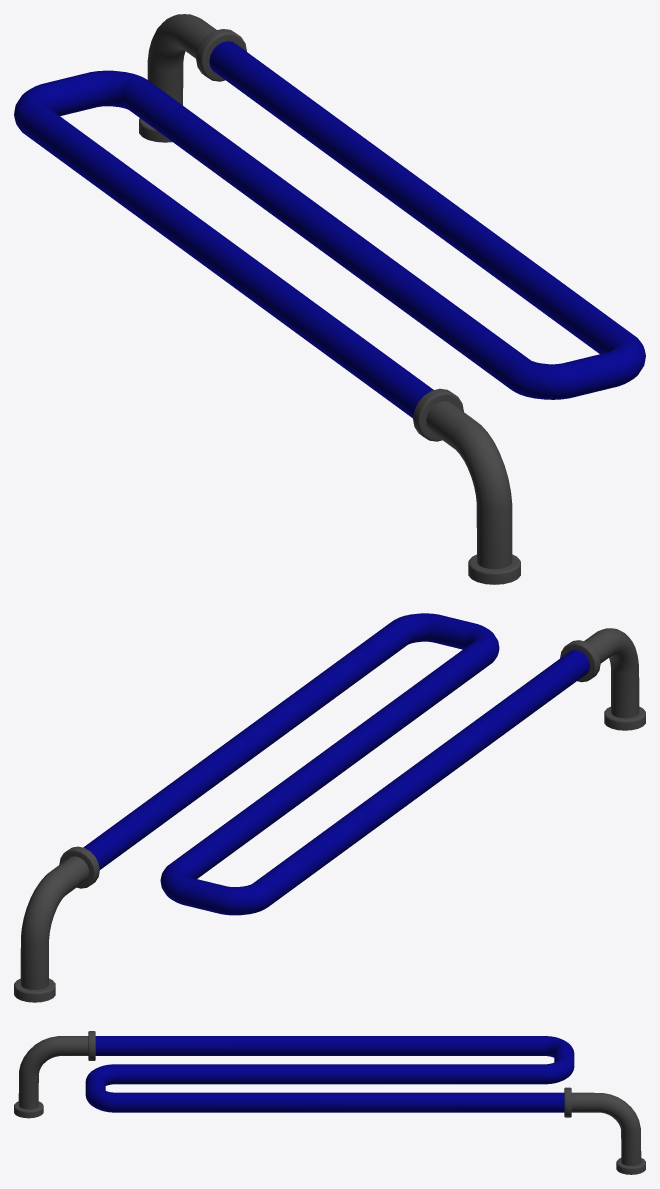
File: SM_Light_lamps_lamp_7.fbx
3 renders of one model, top to bottom at view 1: azimuth 30°, elevation 25°; view 2: azimuth 150°, elevation 25°; view 3: azimuth 270°, elevation 25°, orthographic. The views are drawn at different scales.
Visible parts, largest first — view 1: SM_Light_lamps_lamp_7; view 2: SM_Light_lamps_lamp_7; view 3: SM_Light_lamps_lamp_7.
Part boxes in pixels (x1,y1,x2,y2): SM_Light_lamps_lamp_7: [14, 14, 645, 584]; SM_Light_lamps_lamp_7: [14, 613, 645, 1002]; SM_Light_lamps_lamp_7: [14, 1031, 645, 1174].
Size of the model in its own units: 24.48 by 13.08 by 94.41.
